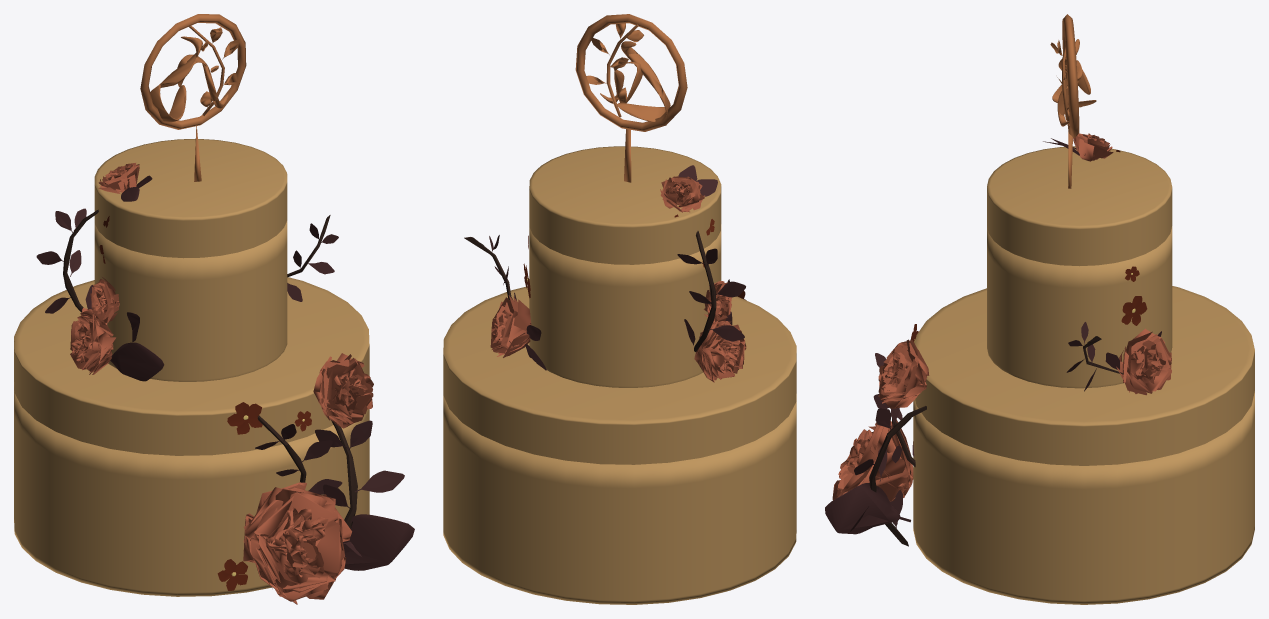
The model's file is 2-tier-caramel-roses-ring.glb.
3 views of the same model, side by side, from view 1: azimuth 30°, elevation 25°; view 2: azimuth 150°, elevation 25°; view 3: azimuth 270°, elevation 25° (orthographic).
Visible parts, largest first — view 1: Cylinder.023, Cylinder.013, grid.025, Cylinder.011, grid.024, Plane.049, Plane.059, grid.026, Plane.056, Plane.058, Plane.052, Plane.045 (+4 smaller); view 2: Cylinder.023, Cylinder.013, Cylinder.011, grid.026, Plane.056, grid.028, grid.014, grid.027, Plane.045; view 3: Cylinder.023, Cylinder.013, grid.025, Cylinder.011, grid.028, Plane.049, grid.024, Plane.059, Plane.045, grid.014, Plane.058.
Boxes of the visible parts, box(x1,y1,x2,y2) form: Cylinder.023: box(14, 277, 369, 596); Cylinder.013: box(94, 139, 287, 381); grid.025: box(243, 482, 352, 604); Cylinder.011: box(140, 14, 246, 181); grid.024: box(313, 353, 373, 428); Plane.049: box(343, 514, 414, 570); Plane.059: box(315, 420, 404, 556); grid.026: box(70, 307, 116, 374); Plane.056: box(36, 208, 98, 313); Plane.058: box(255, 415, 342, 494); Plane.052: box(110, 342, 164, 381); Plane.045: box(287, 215, 338, 301); Cylinder.023: box(443, 286, 796, 604); Cylinder.013: box(529, 146, 721, 387); Cylinder.011: box(575, 14, 687, 182); grid.026: box(694, 321, 746, 382); Plane.056: box(677, 231, 745, 351); grid.028: box(490, 295, 531, 357); grid.014: box(660, 176, 704, 212); grid.027: box(703, 281, 732, 326); Plane.045: box(464, 235, 516, 300); Cylinder.023: box(913, 286, 1254, 604); Cylinder.013: box(987, 146, 1172, 388); grid.025: box(832, 419, 913, 501); Cylinder.011: box(1050, 14, 1096, 188); grid.028: box(1116, 328, 1171, 395); Plane.049: box(825, 483, 910, 534); grid.024: box(878, 339, 929, 408); Plane.059: box(850, 406, 926, 546); Plane.045: box(1066, 322, 1123, 391); grid.014: box(1073, 133, 1113, 161); Plane.058: box(873, 353, 915, 467).
Bounding box in the file's own units: 3.4 × 5.49 × 4.11.
